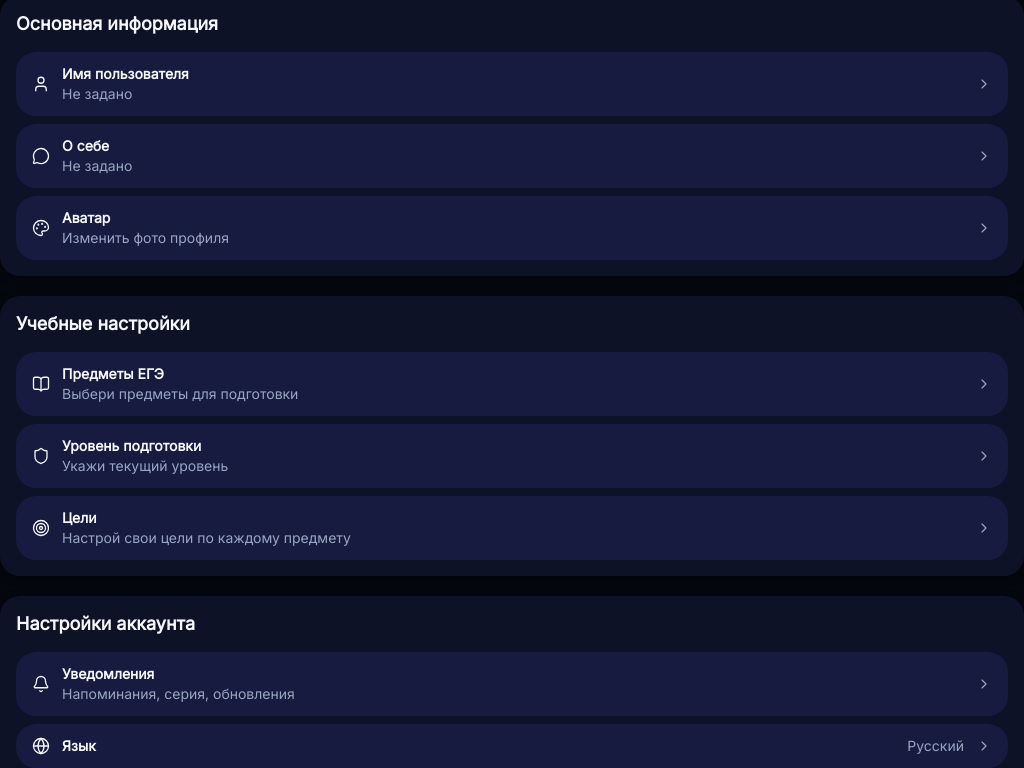
it: ProfileDesktop › opens onboarding from "Предметы ЕГЭ" to edit the real learning profile
(page scrolled)
What coordinates should you click on to do the following:
click the button "Предметы ЕГЭ Выбери предметы для подготовки"
I would click on:
 (113, 374)
Its box is [16, 352, 1008, 416].
(page scrolled)
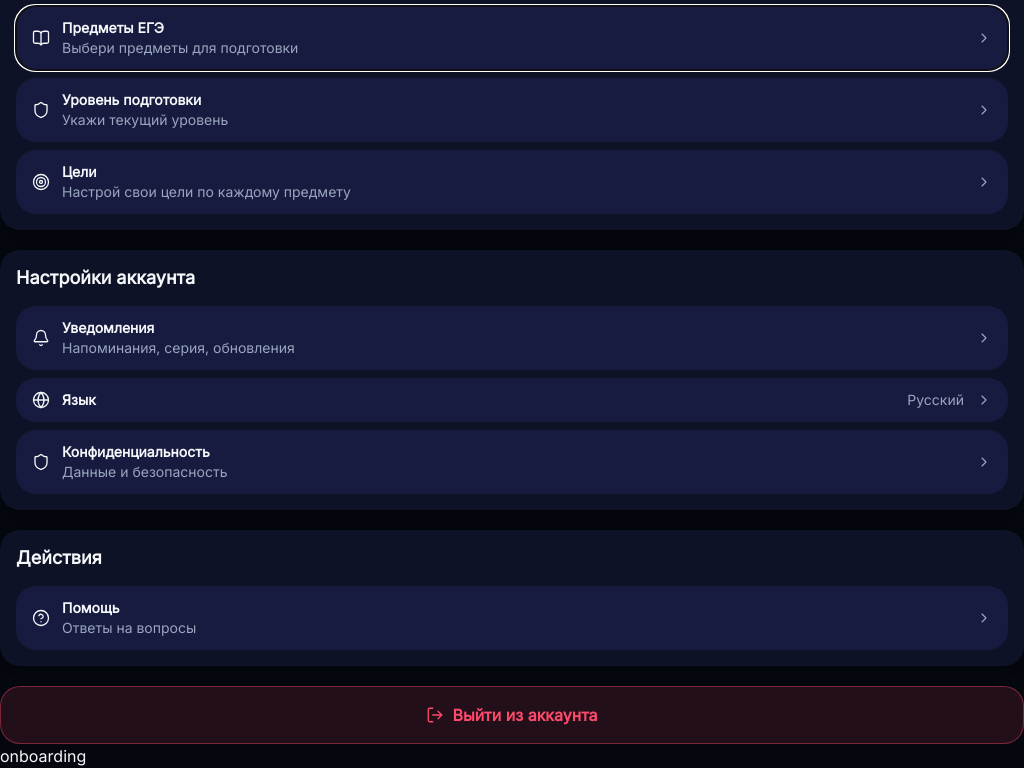
Expected: the text with test id "overlay" reads "onboarding", [0, 746, 86, 766]
